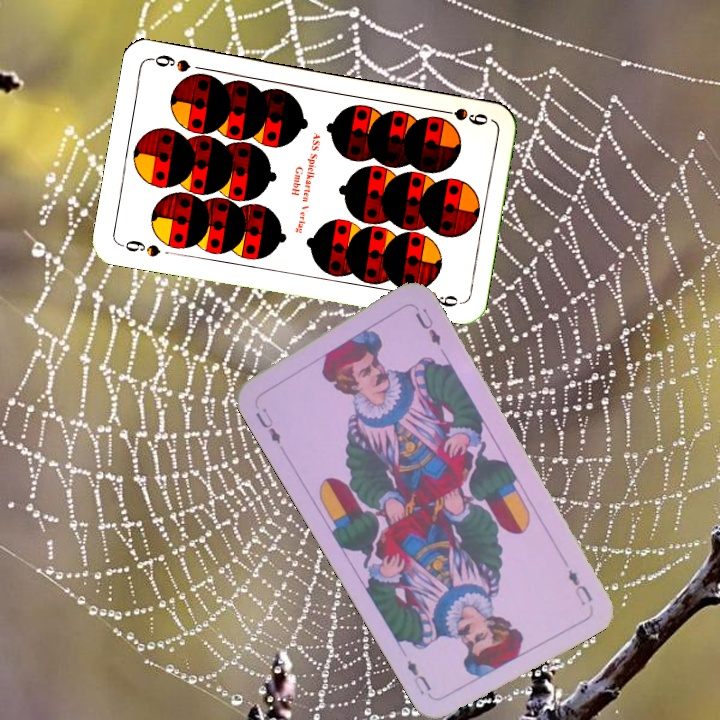EU: (251, 403, 284, 447), (563, 565, 595, 608)
S9: (433, 103, 491, 128), (116, 236, 163, 260)
